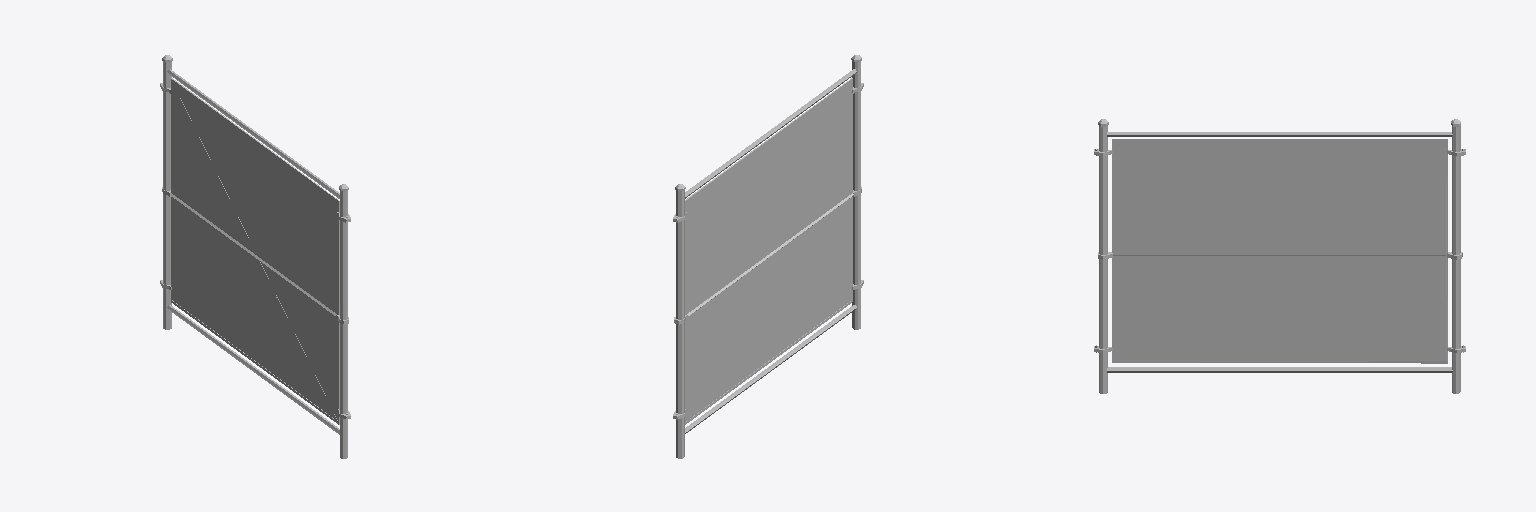
File: fence.obj
3 renders of one model, left to right at view 1: azimuth 30°, elevation 25°; view 2: azimuth 150°, elevation 25°; view 3: azimuth 270°, elevation 25°, orthographic.
Parts seen in each view (by area): view 1: fence; view 2: fence; view 3: fence.
Part boxes in pixels (x1,y1,x2,y2): fence: (160,55,350,458); fence: (673,55,863,458); fence: (1094,119,1465,393).
Bounding box in the file's own units: 4.43 × 109 × 135.